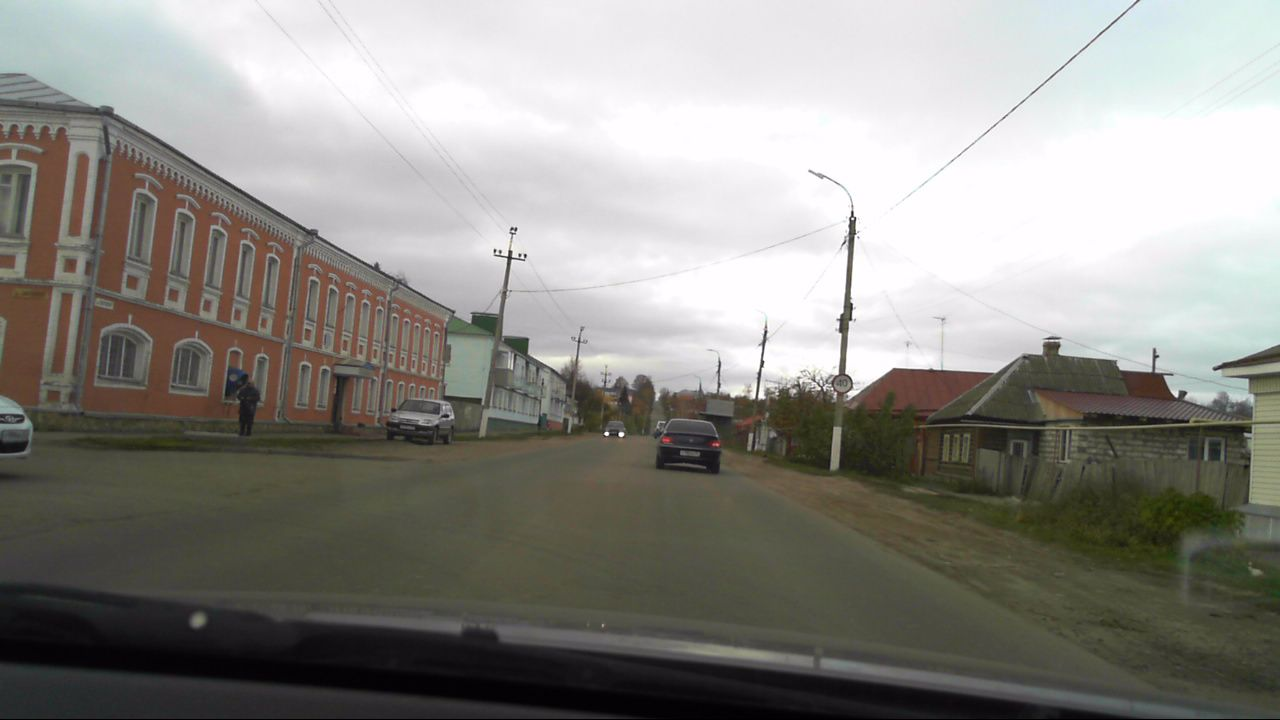speed_warning_40: (830, 373, 852, 395)
